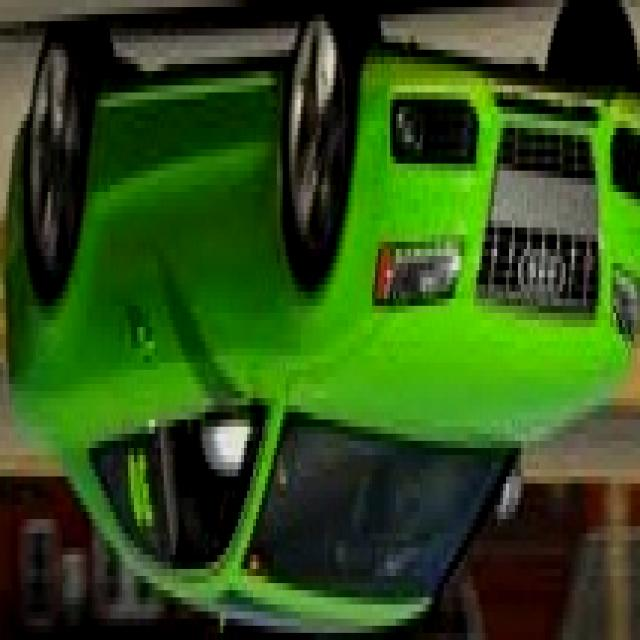green: (6, 18, 640, 640)
